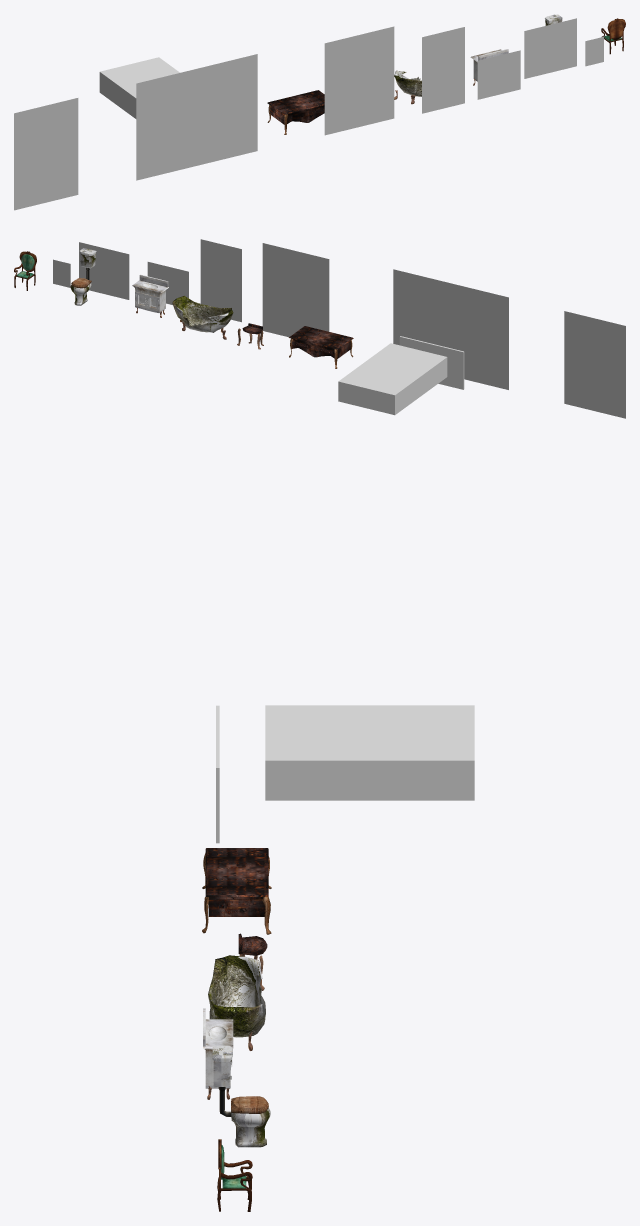
Rendered from lavabo.fbx.
The picture shows the model from 3 angles, top to bottom: view 1: azimuth 30°, elevation 25°; view 2: azimuth 150°, elevation 25°; view 3: azimuth 270°, elevation 25°; orthographic projection. The views are drawn at different scales.
Visible parts, largest first — view 1: Plane006, Plane005, Plane007, Plane004, Plane002, Box001, Plane003, escritorio, Plane001, tina, silla, lavabo; view 2: Plane006, Plane007, Plane005, Box001, Plane004, Plane002, tina, escritorio, Box002, lavabo, Plane003, Plane001 (+2 smaller); view 3: Box001, escritorio, tina, lavabo, WC.
Part boxes in pixels (x1,y1,x2,y2): Plane006: (136,54,257,180); Plane005: (324,26,394,135); Plane007: (14,98,78,210); Plane004: (422,27,464,113); Plane002: (524,18,576,78); Box001: (99,57,179,118); Plane003: (477,50,520,99); escritorio: (267,90,324,124); Plane001: (585,36,603,66); tina: (394,70,421,96); silla: (601,21,624,54); lavabo: (470,49,508,81); Plane006: (393,269,508,389); Plane007: (564,311,625,418); Plane005: (262,243,329,337); Box001: (338,343,447,415); Plane004: (200,239,241,322); Plane002: (79,242,129,299); tina: (172,296,233,332); escritorio: (289,326,353,358); Box002: (399,336,464,389); lavabo: (132,274,168,312); Plane003: (147,262,188,304); Plane001: (53,259,70,287); Box001: (265,705,474,800); escritorio: (205,848,268,916); tina: (208,955,265,1037); lavabo: (203,1008,233,1088); WC: (231,1108,270,1147).
Bounding box in the file's own units: 1220 × 185 × 275.
